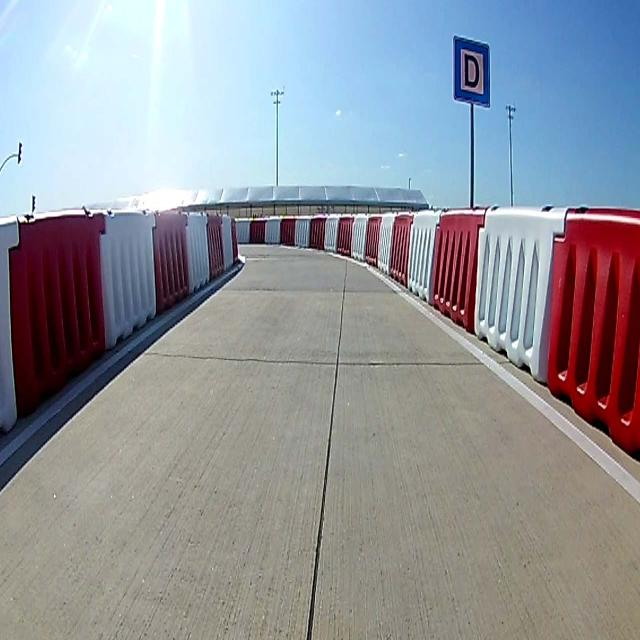durak: (454, 34, 490, 108)
